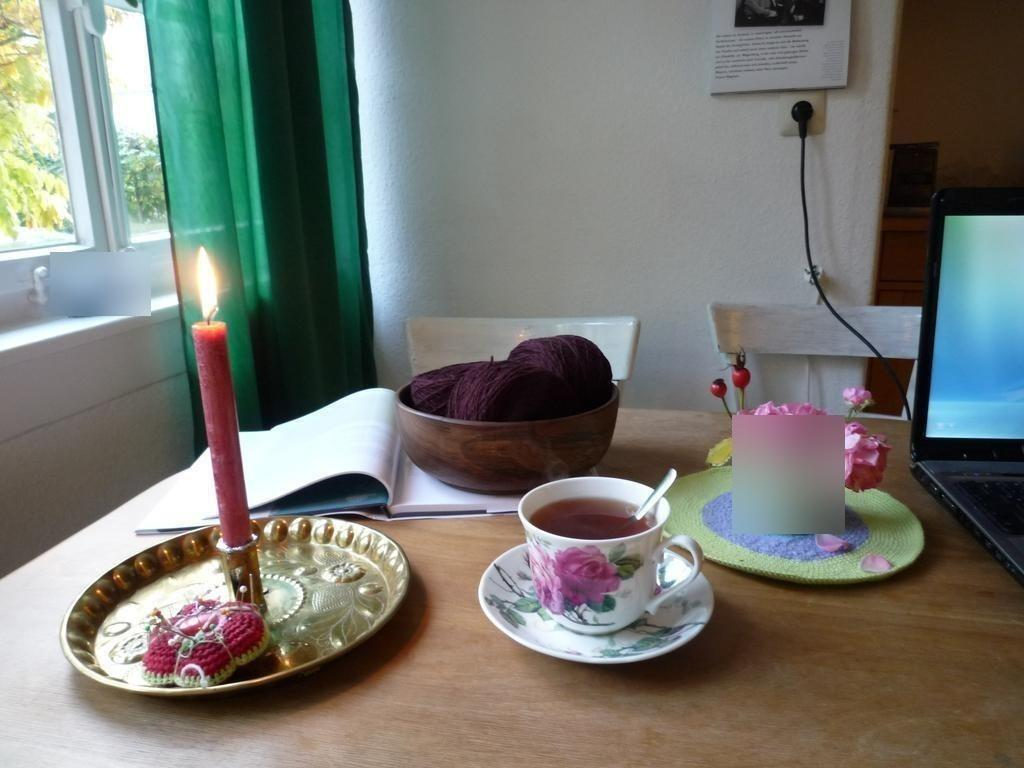cup-handle: (518, 475, 705, 634)
